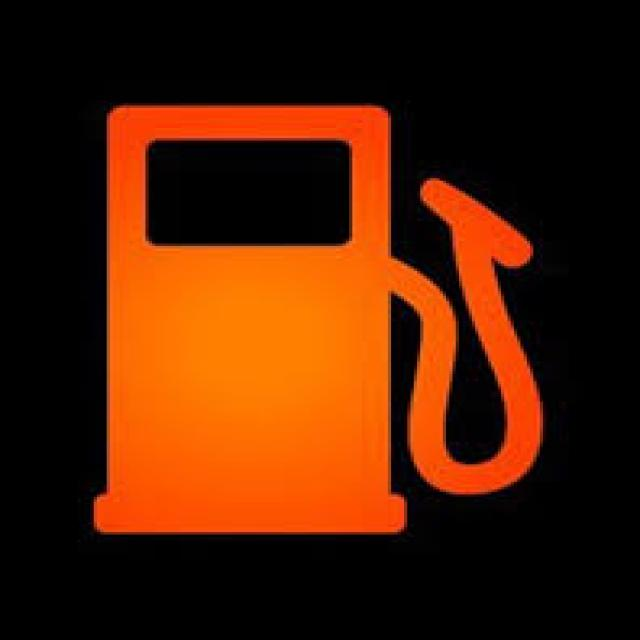kontrolka: (76, 76, 572, 543)
